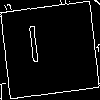I: (25, 25, 43, 73)
